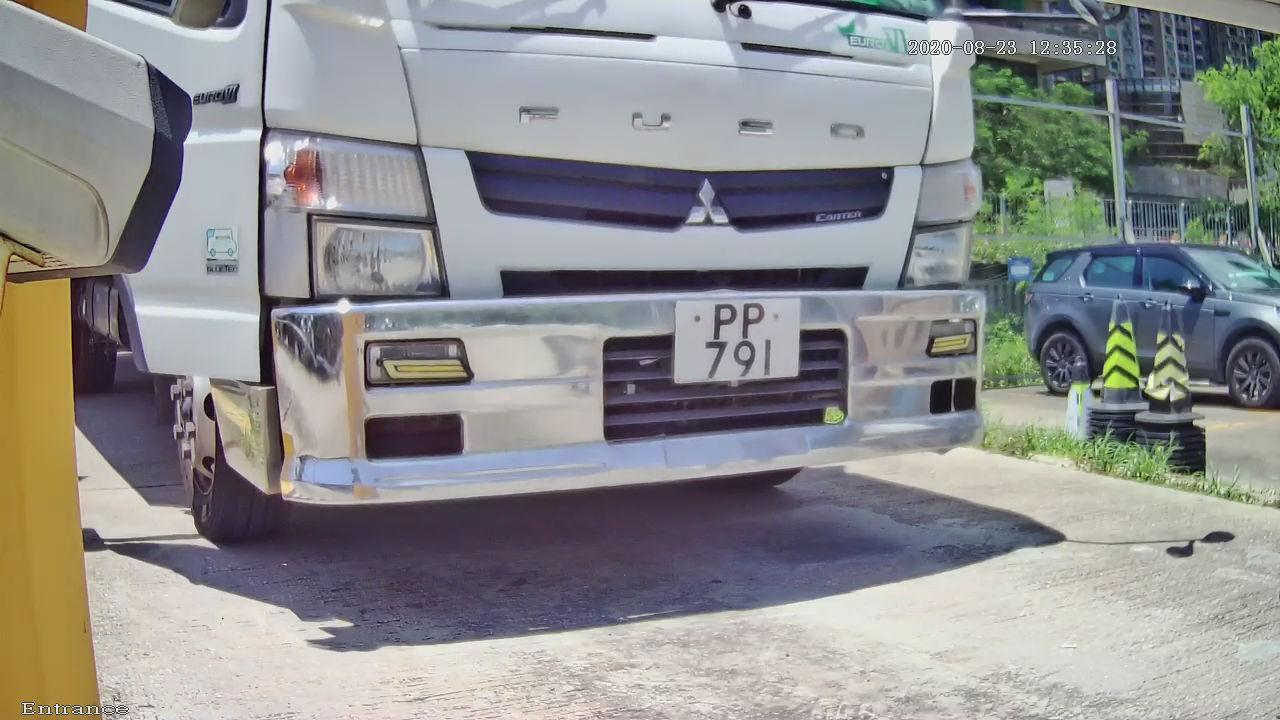Car: (121, 20, 1001, 614)
License Plate: (631, 241, 853, 417)
